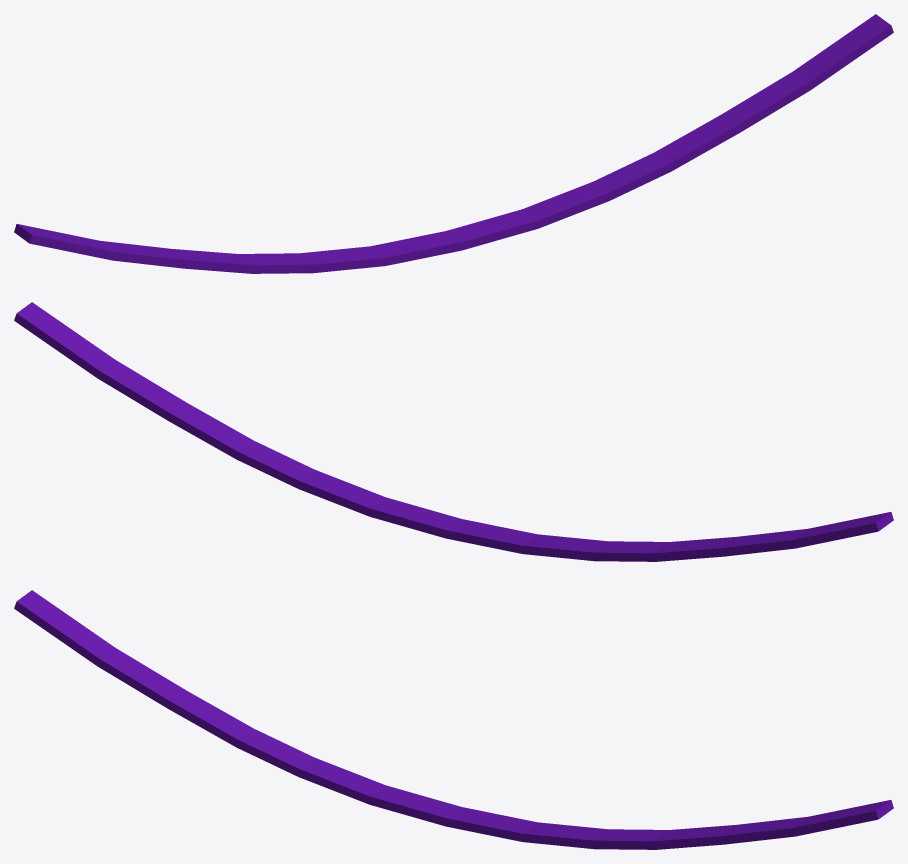
Rendered from Tape_3_chunks.fbx.
3 renders of one model, top to bottom at view 1: azimuth 30°, elevation 25°; view 2: azimuth 150°, elevation 25°; view 3: azimuth 330°, elevation 25°, orthographic.
Visible parts, largest first — view 1: Tape_3_2, Tape_3_3, Tape_3_1; view 2: Tape_3_2, Tape_3_3, Tape_3_1; view 3: Tape_3_2, Tape_3_1, Tape_3_3.
Boxes of the visible parts, left/top/right/bottom form: Tape_3_2: left=14, top=224, right=436, bottom=273; Tape_3_3: left=633, top=14, right=893, bottom=166; Tape_3_1: left=425, top=162, right=686, bottom=256; Tape_3_2: left=474, top=512, right=893, bottom=561; Tape_3_3: left=14, top=302, right=259, bottom=461; Tape_3_1: left=233, top=443, right=486, bottom=542; Tape_3_2: left=14, top=590, right=434, bottom=817; Tape_3_1: left=416, top=802, right=670, bottom=849; Tape_3_3: left=648, top=800, right=893, bottom=848.
Size of the model in its own units: 776 by 103 by 24.08.
